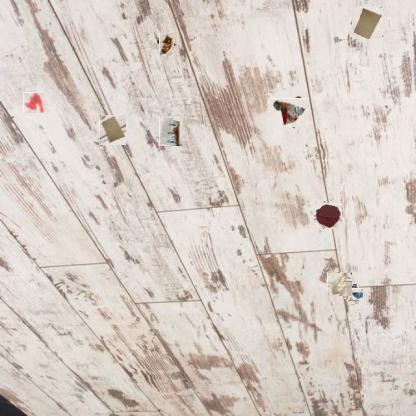dirty: (274, 96, 307, 129), (351, 6, 383, 38), (98, 116, 127, 145), (159, 116, 182, 146), (327, 272, 352, 296), (157, 35, 176, 54), (346, 286, 361, 302)
liquid: (315, 202, 341, 228), (23, 92, 44, 113)
